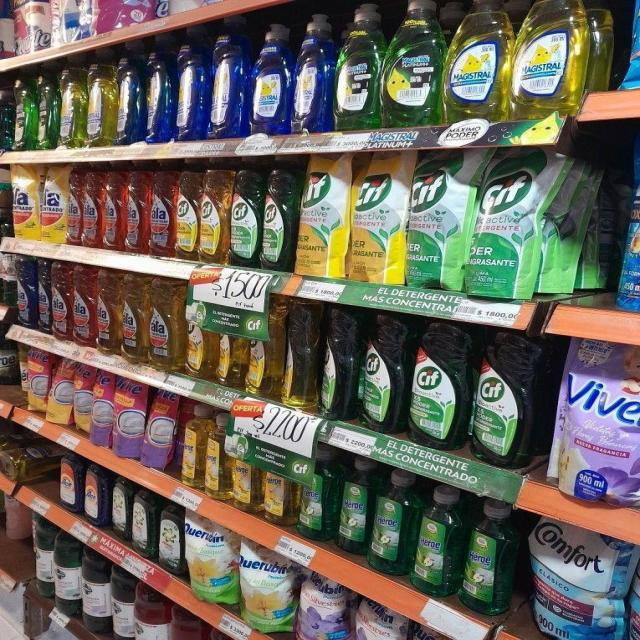ala_conc_amarillo: (149, 277, 185, 371), (121, 272, 148, 364), (96, 269, 121, 355)
ala_conc_azul: (628, 561, 639, 640)
ala_conc_rojo: (149, 169, 175, 258), (124, 168, 148, 254), (72, 264, 96, 348), (102, 169, 123, 251), (52, 261, 72, 341), (82, 169, 102, 249), (66, 167, 82, 246), (38, 260, 51, 334)
ala_sachet_amarillo: (40, 164, 67, 243), (12, 164, 38, 240)
cif_conc_bot_amarilla: (199, 169, 229, 263), (176, 169, 199, 260)
cif_conc_botella_verde: (471, 328, 531, 468), (409, 320, 467, 450), (358, 312, 404, 432), (262, 163, 294, 272), (230, 168, 260, 268)
cif_conc_sachet_amarillo: (350, 150, 404, 284), (298, 152, 348, 276)
cif_conc_sachet_verde: (466, 146, 537, 299), (406, 148, 464, 290)
magistral_con_amarillo: (514, 0, 586, 117), (446, 0, 510, 122)
magistral_con_azul: (633, 116, 640, 208)
